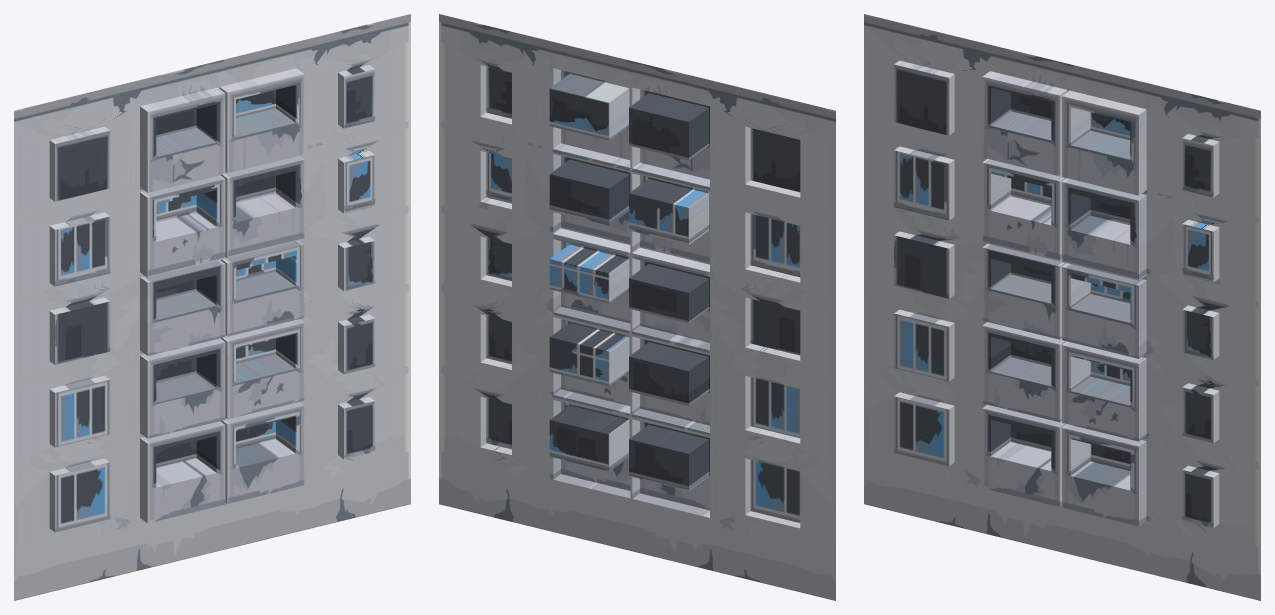
File: Testbuild.fbx
3 renders of one model, left to right at view 1: azimuth 30°, elevation 25°; view 2: azimuth 150°, elevation 25°; view 3: azimuth 330°, elevation 25°, orthographic.
Visible parts, largest first — view 1: build1pixel; view 2: build1pixel; view 3: build1pixel.
Part boxes in pixels (x1,y1,x2,y2): build1pixel: (14,14,410,600); build1pixel: (439,14,835,600); build1pixel: (864,14,1260,600).
Bounding box in the file's own units: 225 × 266 × 19.52.
1 material, 1 textured.
